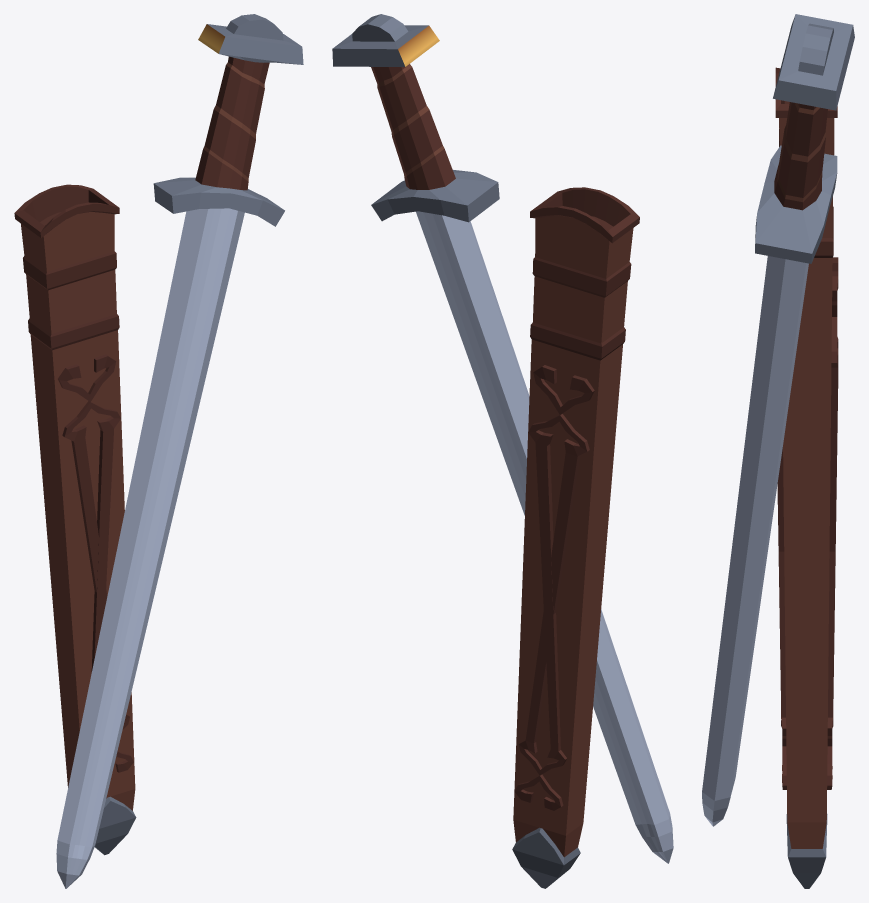
Rendered from sword_treasure.fbx.
3 views of the same model, side by side, from view 1: azimuth 30°, elevation 25°; view 2: azimuth 150°, elevation 25°; view 3: azimuth 270°, elevation 25° (orthographic). The views are drawn at different scales.
Visible parts, largest first — view 1: sword_treasure; view 2: sword_treasure; view 3: sword_treasure.
Boxes of the visible parts, box(x1,y1,x2,y2) form: sword_treasure: box(14, 14, 303, 888); sword_treasure: box(332, 14, 673, 888); sword_treasure: box(702, 14, 854, 888).
Bounding box in the file's own units: 0.2642 × 0.7284 × 0.1067.
